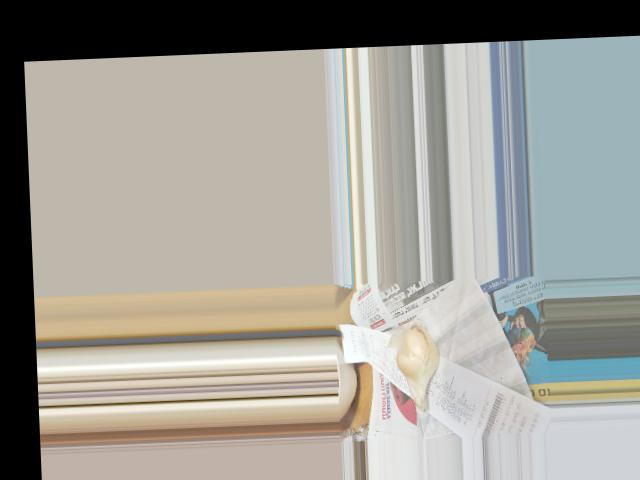onion: (396, 326, 444, 405)
